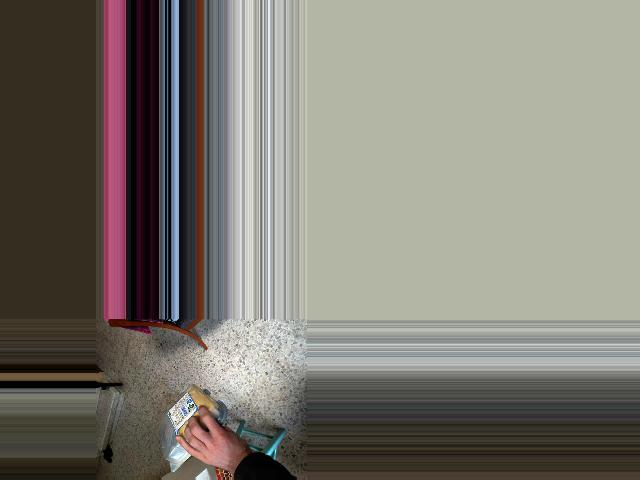cheese: (165, 387, 212, 474)
